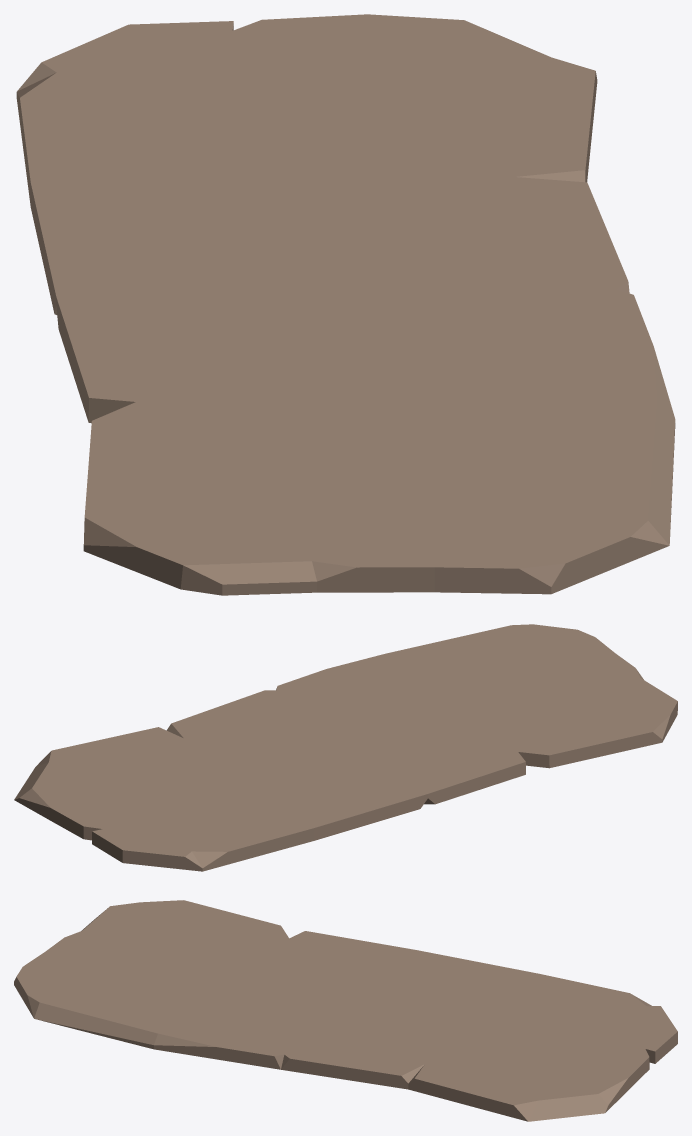
The model's file is Floor.fbx.
3 views of the same model, one above another, from view 1: azimuth 30°, elevation 25°; view 2: azimuth 150°, elevation 25°; view 3: azimuth 270°, elevation 25° (orthographic). The views are drawn at different scales.
Visible parts, largest first — view 1: 立方体.078; view 2: 立方体.078; view 3: 立方体.078.
Boxes of the visible parts, x1=… form: 立方体.078: x1=16, y1=14, x2=675, y2=595; 立方体.078: x1=14, y1=624, x2=677, y2=871; 立方体.078: x1=14, y1=900, x2=677, y2=1121.
Size of the model in its own units: 675 by 896 by 18.58.
